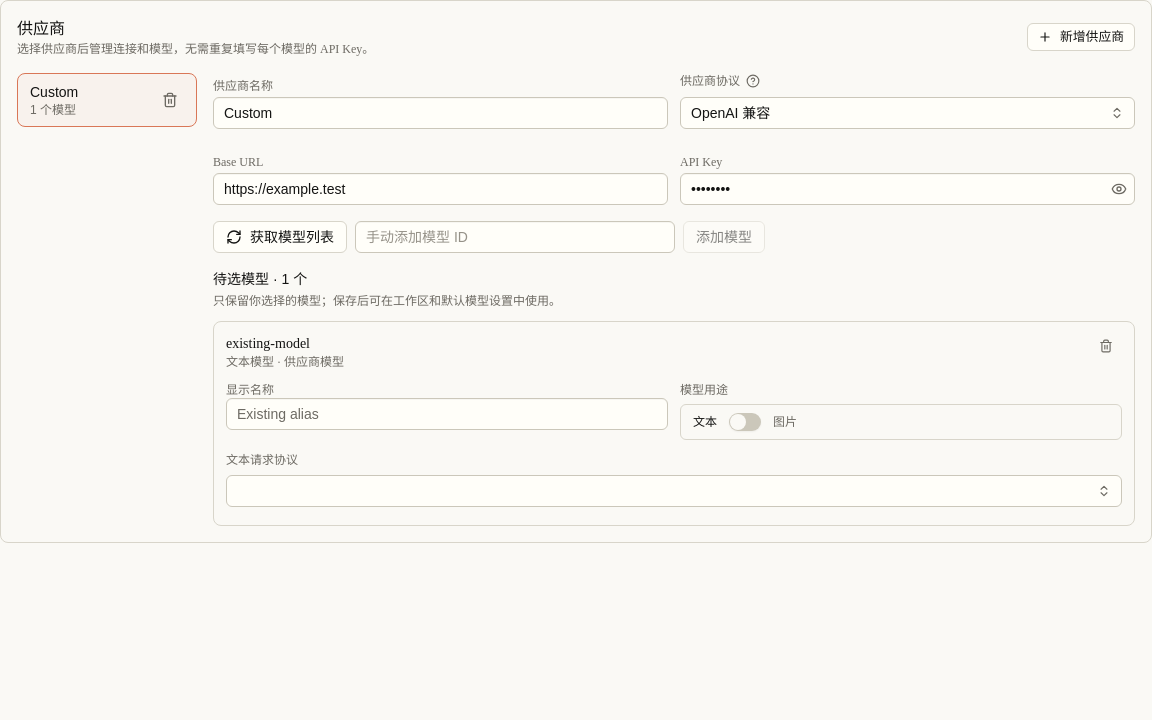
it: ProviderSettingsPanel model selection › marks configured models as already added and prevents duplicates on repeated fetches
The image size is (1152, 720).
Click the button "获取模型列表" at (280, 237), box left=213, top=221, right=347, bottom=253
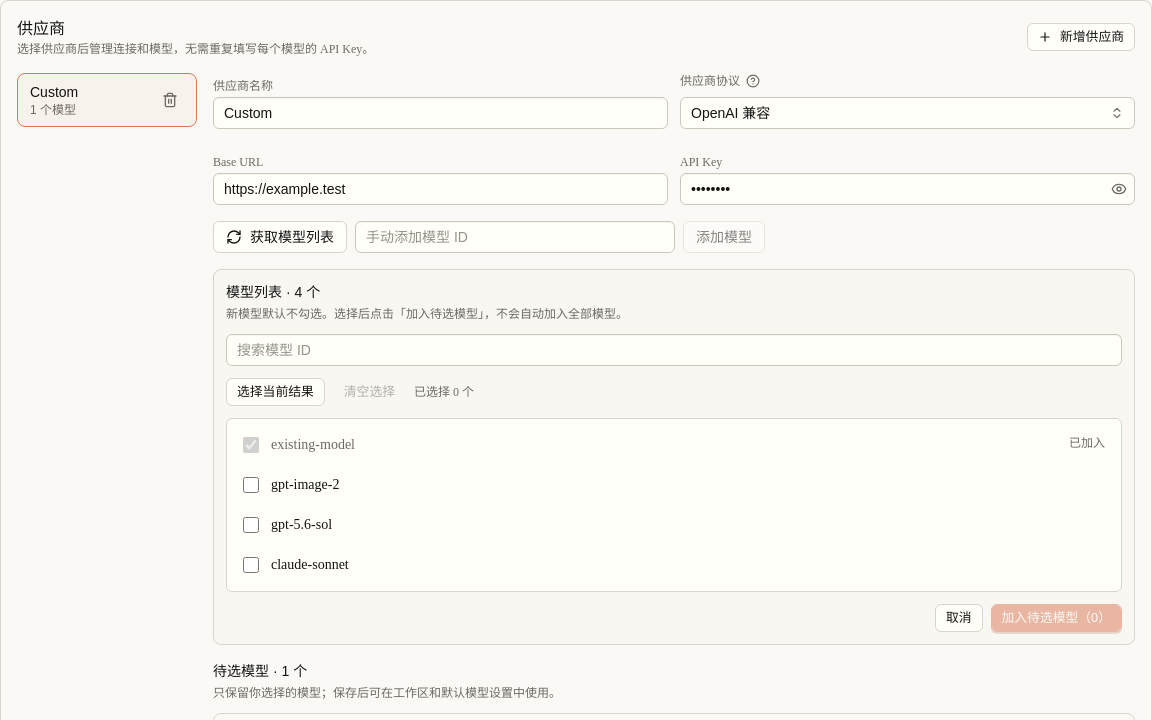
Check: the checkbox named "选择模型 existing-model" is checked, box left=243, top=437, right=259, bottom=453
Check: the checkbox named "选择模型 existing-model" is disabled, box left=243, top=437, right=259, bottom=453
Click the checkbox named "选择模型 gpt-image-2" at (251, 485), box left=243, top=477, right=259, bottom=493
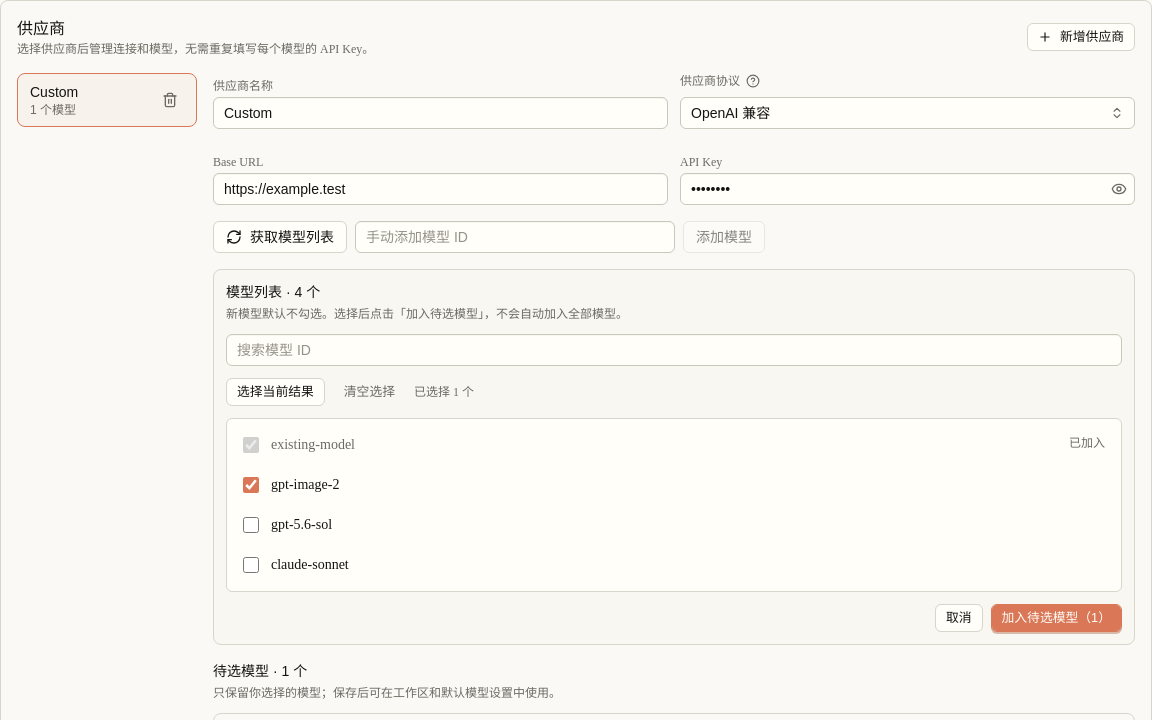
Click the button "加入待选模型（1）" at (1056, 618), box left=990, top=604, right=1122, bottom=632
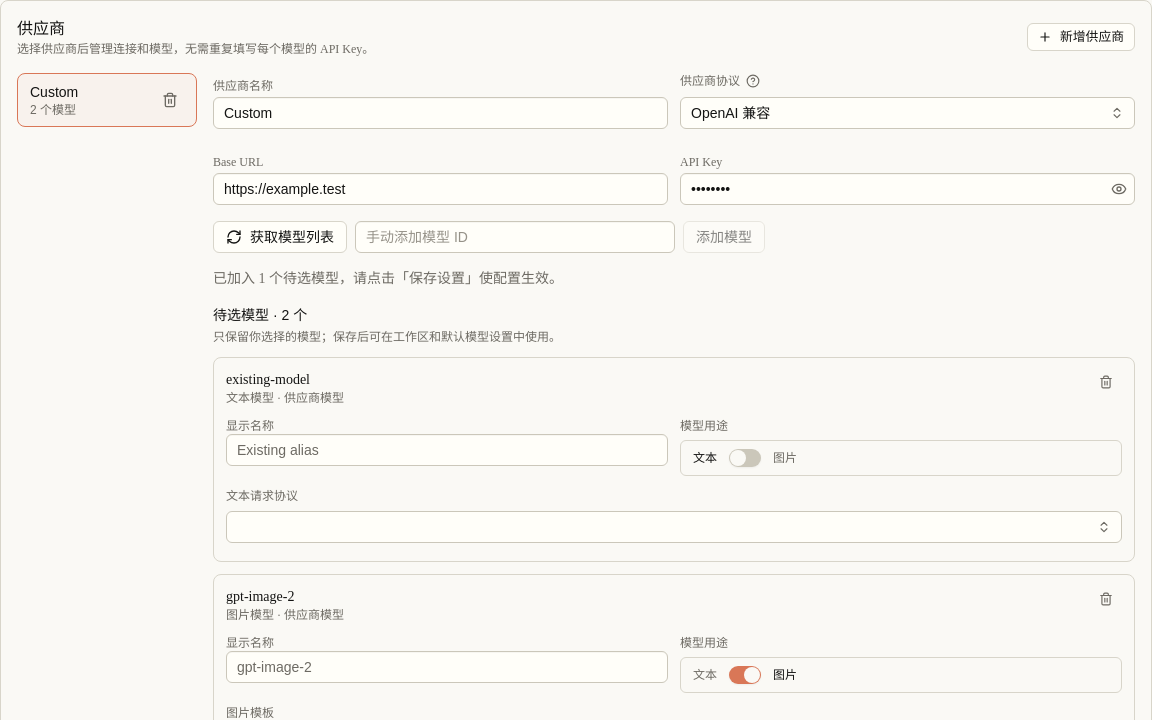
Click the button "获取模型列表" at (280, 237), box left=213, top=221, right=347, bottom=253
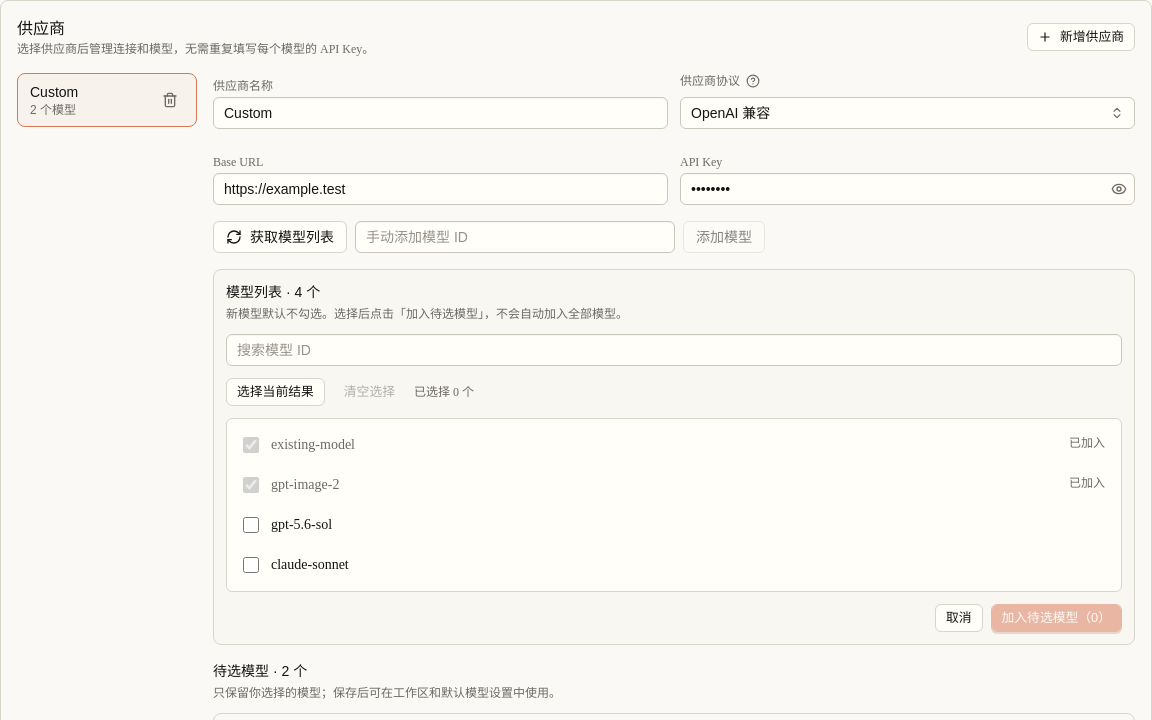
Check: the checkbox named "选择模型 gpt-image-2" is disabled, box left=243, top=477, right=259, bottom=493
Check: the checkbox named "选择模型 gpt-5.6-sol" is not checked, box left=243, top=517, right=259, bottom=533
